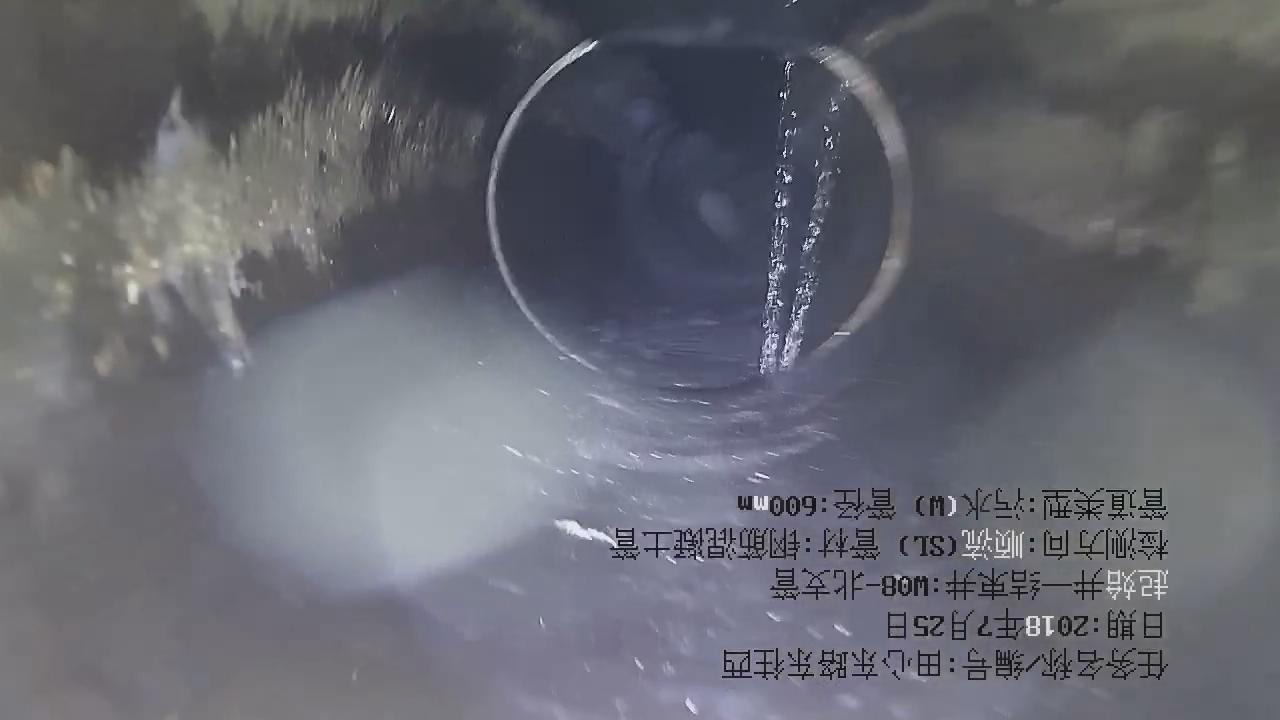CKTJ: (486, 39, 601, 370), (812, 47, 914, 358)
SL: (736, 40, 888, 389)
